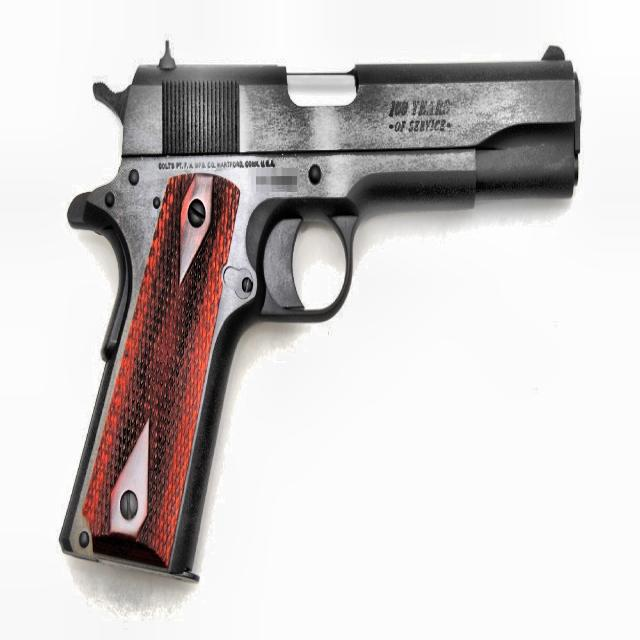Colt m1911: (58, 37, 582, 583)
